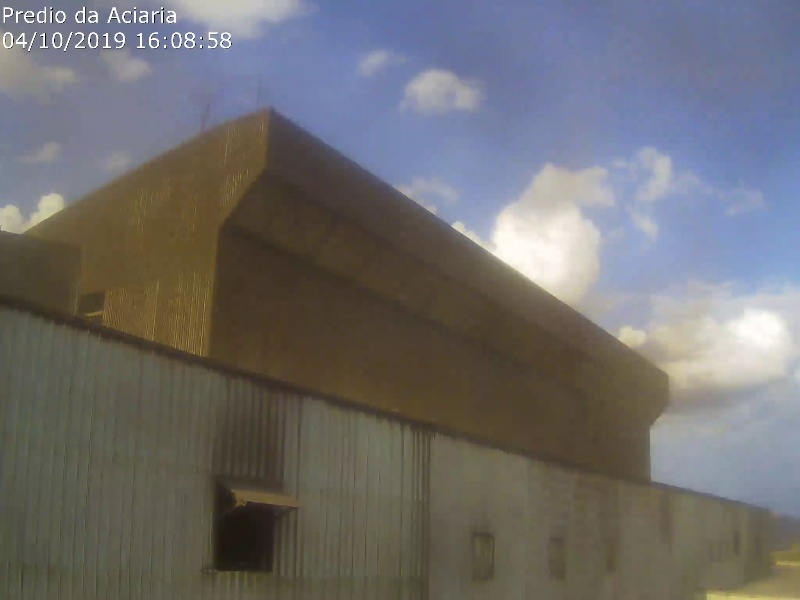ruim: (453, 114, 731, 440)
